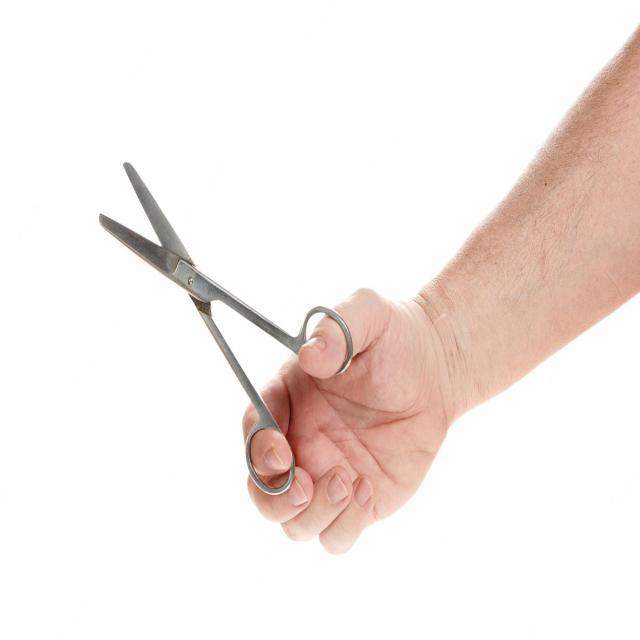scissors: (97, 158, 353, 497)
